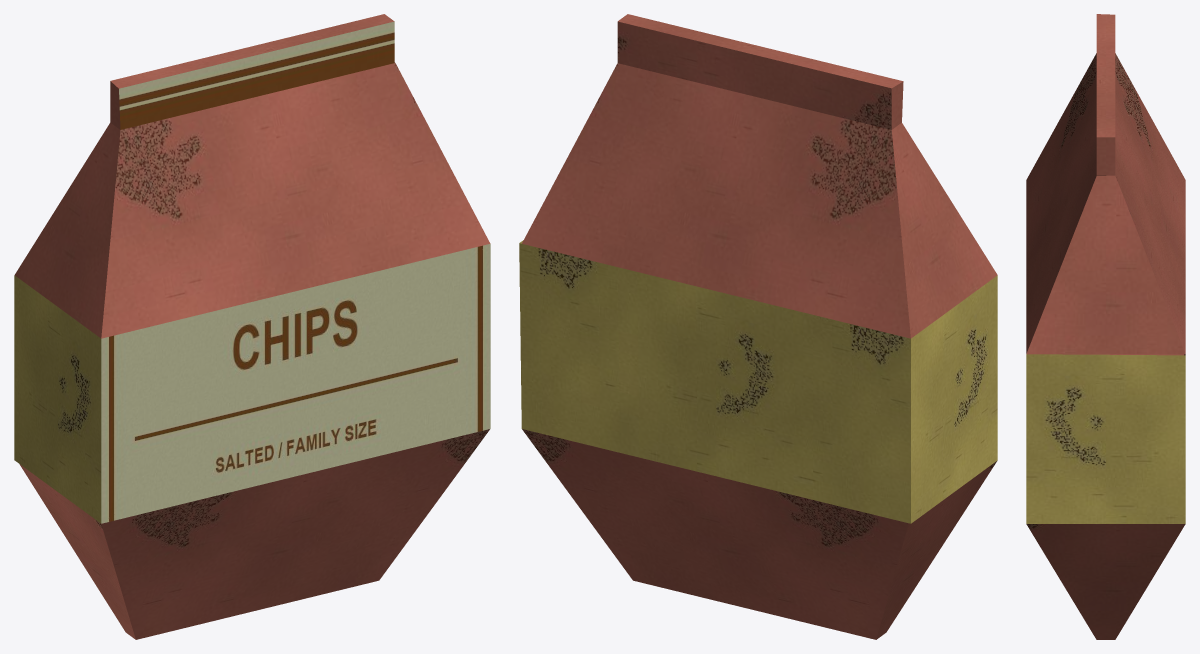
Rendered from chips_v1.glb.
3 renders of one model, left to right at view 1: azimuth 30°, elevation 25°; view 2: azimuth 150°, elevation 25°; view 3: azimuth 270°, elevation 25°, orthographic. The views are drawn at different scales.
Parts seen in each view (by area): view 1: Variant_chips_1; view 2: Variant_chips_1; view 3: Variant_chips_1.
Part boxes in pixels (box(x1,y1,x2,y2)): Variant_chips_1: box(14, 14, 490, 639); Variant_chips_1: box(519, 14, 997, 639); Variant_chips_1: box(1026, 14, 1185, 639).
Bounding box in the file's own units: 0.1771 × 0.24 × 0.068.
Materials: 3 (3 with a texture image).
